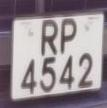2: (76, 49, 96, 94)
4: (17, 54, 40, 99), (58, 52, 78, 95)
5: (38, 53, 60, 97)
P: (59, 15, 80, 58)
R: (37, 16, 61, 61)
